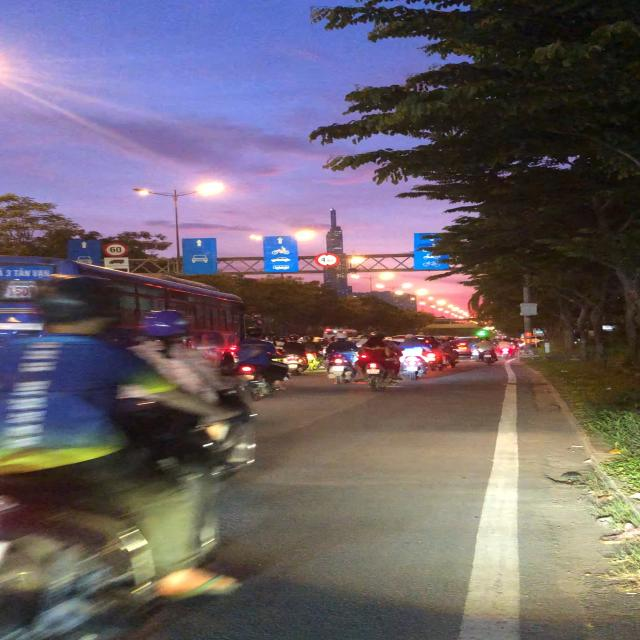Bien bao toc do toi da cho phep: (99, 241, 130, 257)
